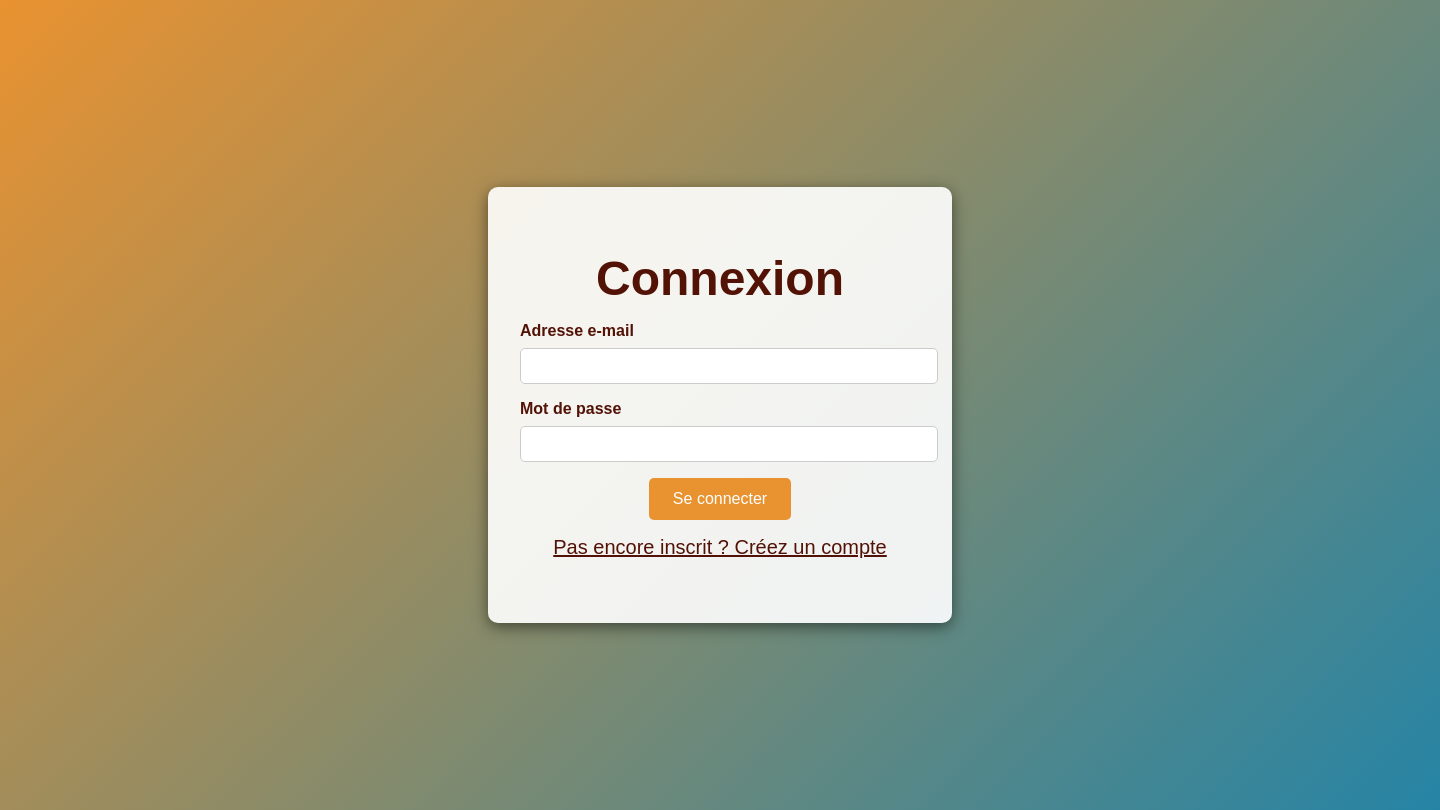
Scenario: Auth Component › toggles to the registration form when clicking the toggle link
The width and height of the screenshot is (1440, 810).
Click the text "Pas encore inscrit ? Créez un compte" at [720, 547], box top-left (553, 536), bottom-right (887, 558)
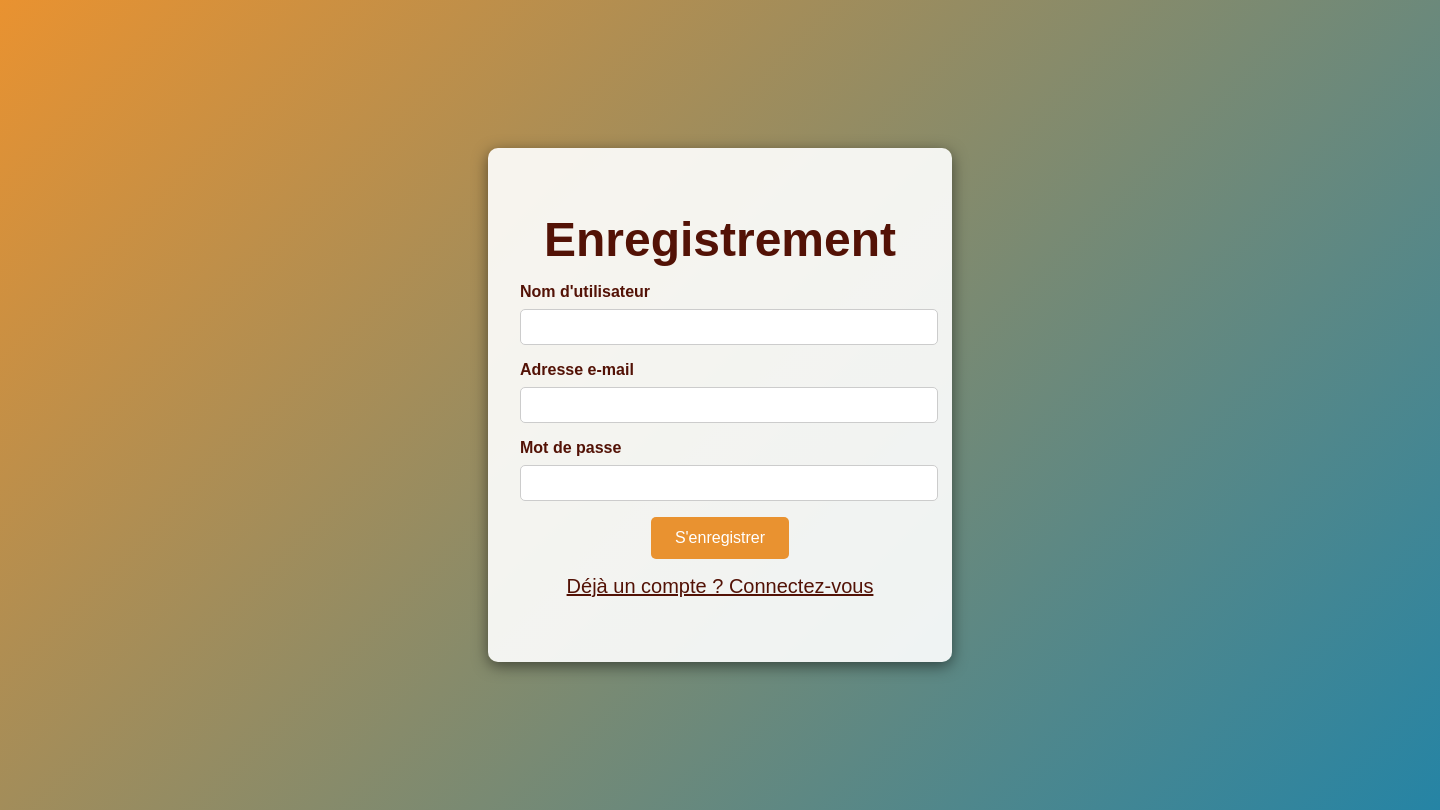
Expected: the field labelled "Nom d'utilisateur" is shown, top-left (520, 309), bottom-right (938, 345)
Expected: the heading "Enregistrement" is shown, top-left (520, 212), bottom-right (920, 267)
Expected: the button "S'enregistrer" is shown, top-left (651, 517), bottom-right (789, 559)
